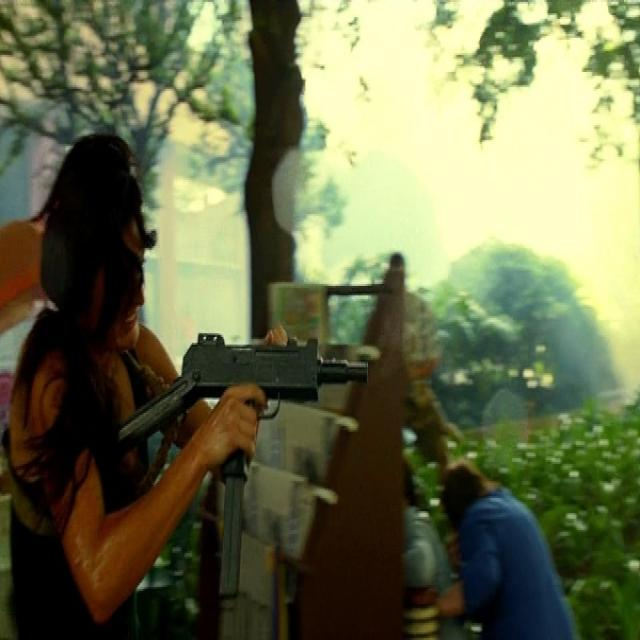rifle: (116, 321, 377, 601)
